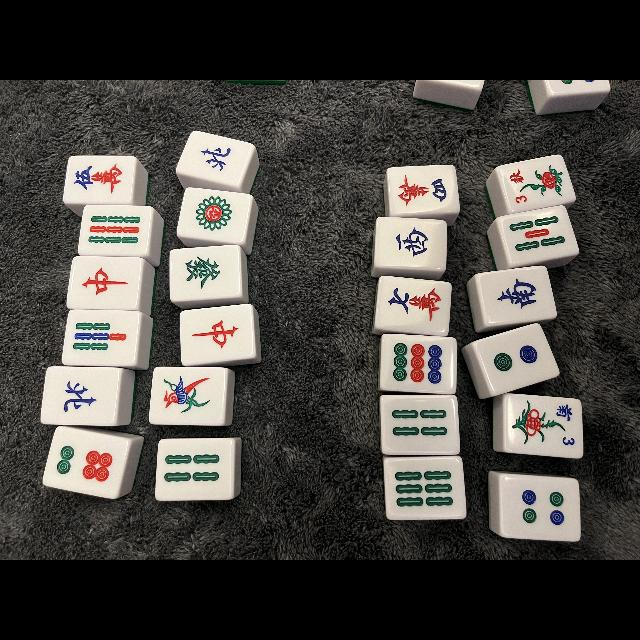b1: (152, 370, 224, 424)
b4: (384, 396, 458, 454), (158, 440, 230, 498)
b5: (504, 212, 572, 260)
b6: (386, 458, 464, 518)
b7: (66, 310, 138, 364)
b9: (82, 206, 148, 254)
c4: (390, 166, 458, 214)
c5: (68, 157, 132, 201)
c7: (379, 280, 449, 328)
d1: (183, 190, 247, 240)
d2: (482, 333, 550, 385)
d4: (501, 477, 581, 539)
d6: (49, 429, 122, 493)
d9: (382, 336, 453, 390)
dg: (173, 249, 239, 297)
dr: (182, 308, 252, 362), (70, 259, 140, 309)
f3: (552, 399, 580, 451)
s3: (505, 162, 533, 206)
wn: (44, 369, 116, 425), (184, 134, 246, 178)
ws: (481, 270, 553, 322)
ww: (378, 218, 444, 270)
